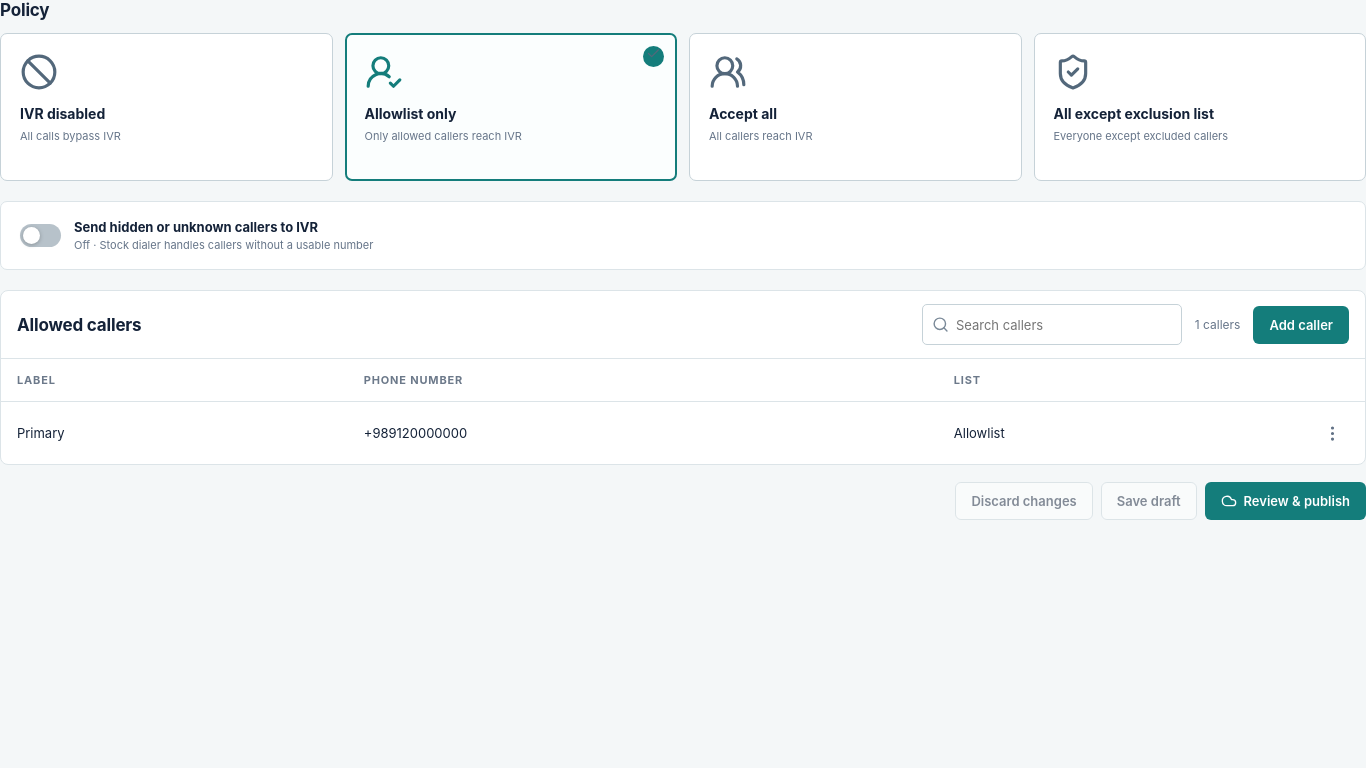
Caller Policy publishing › saves, reviews, confirms, and publishes a broader caller policy
Expected: the heading "Policy" is shown, x1=0 y1=0 x2=49 y2=20
Expected: the button "Save draft" is disabled, x1=1101 y1=482 x2=1196 y2=520
Click the button "Accept all All callers reach IVR": [728, 72] box x1=689 y1=33 x2=1022 y2=181
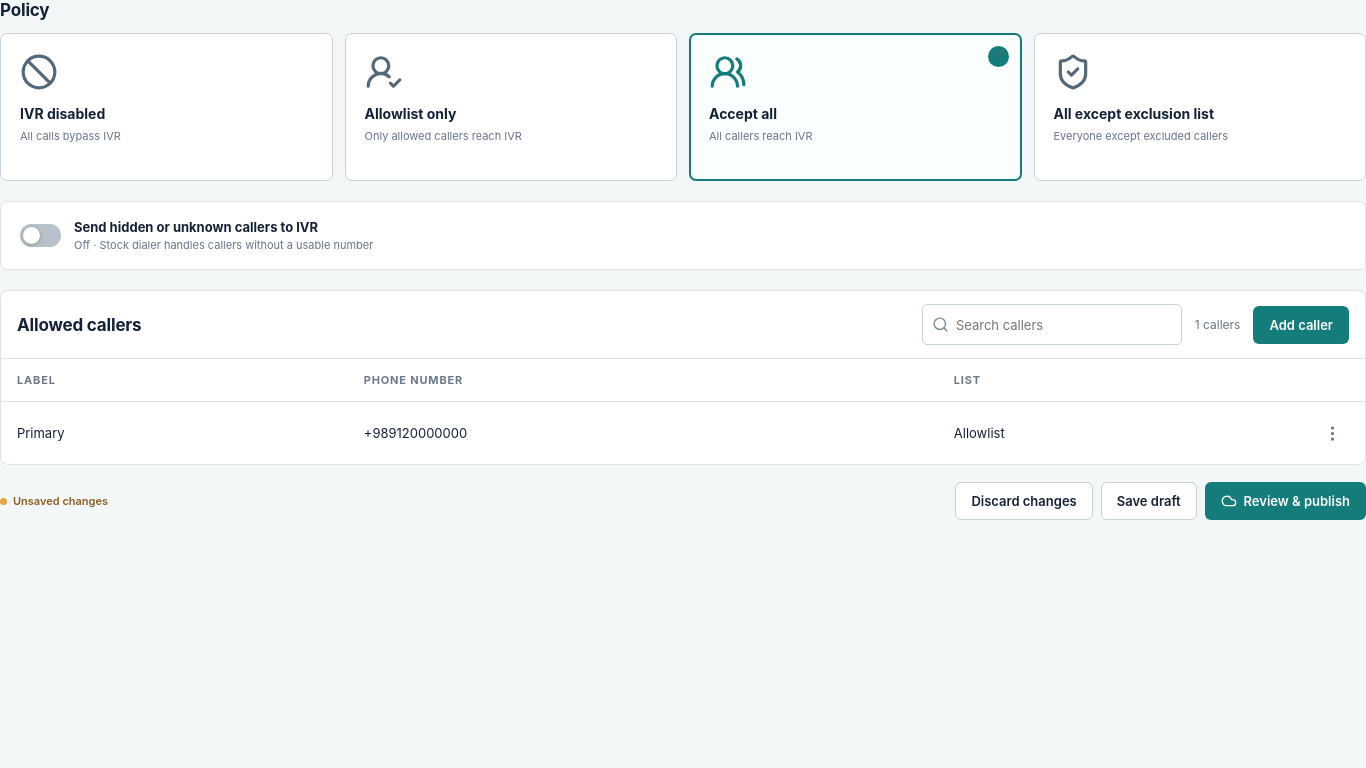
Now the text "Unsaved changes" is shown, box x1=0 y1=494 x2=108 y2=508
Click the button "Review & publish": [1285, 501] box x1=1204 y1=482 x2=1365 y2=520
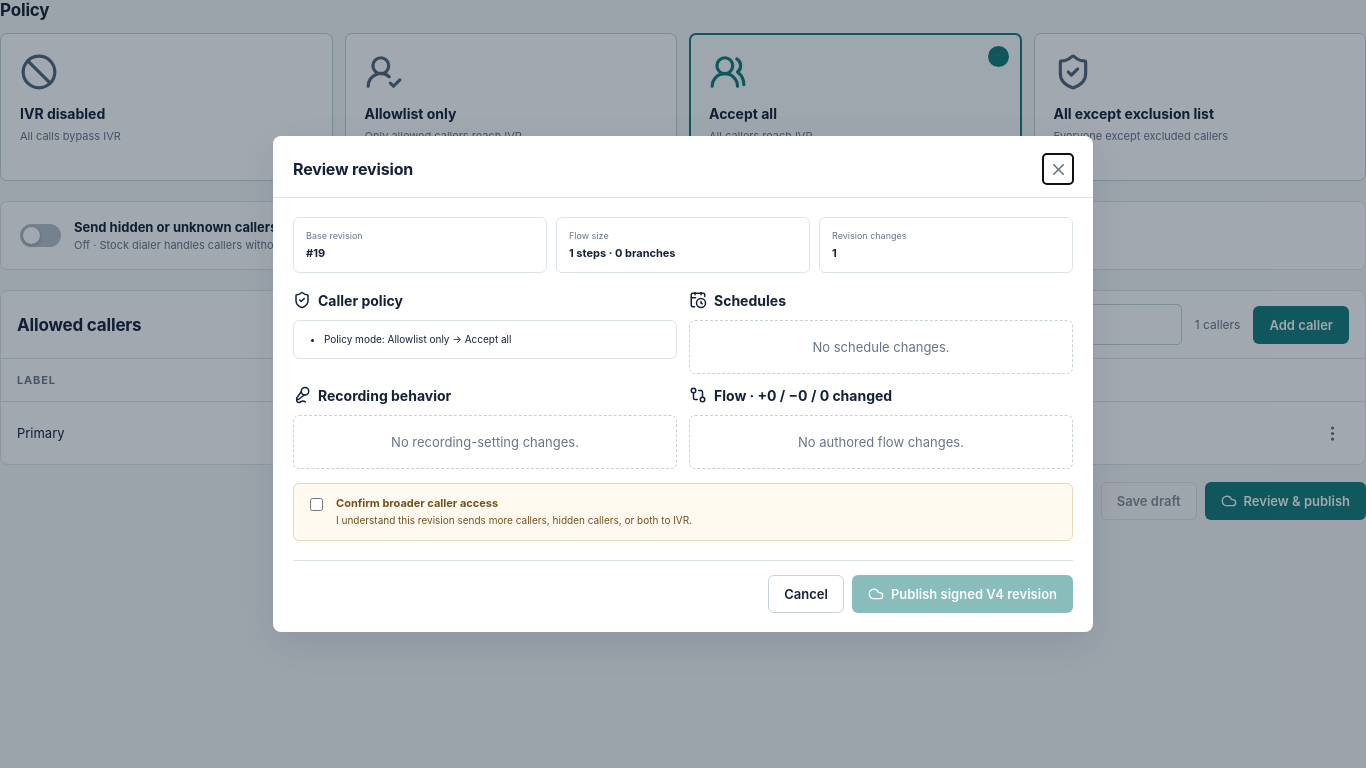
Now the list item "Policy mode: Allowlist only → Accept all" is shown, box x1=324 y1=333 x2=512 y2=345
Now the button "Publish signed V4 revision" is disabled, box x1=852 y1=575 x2=1073 y2=613
Click the checkbox labelled "Confirm broader caller access": [316, 505] box x1=310 y1=498 x2=323 y2=511
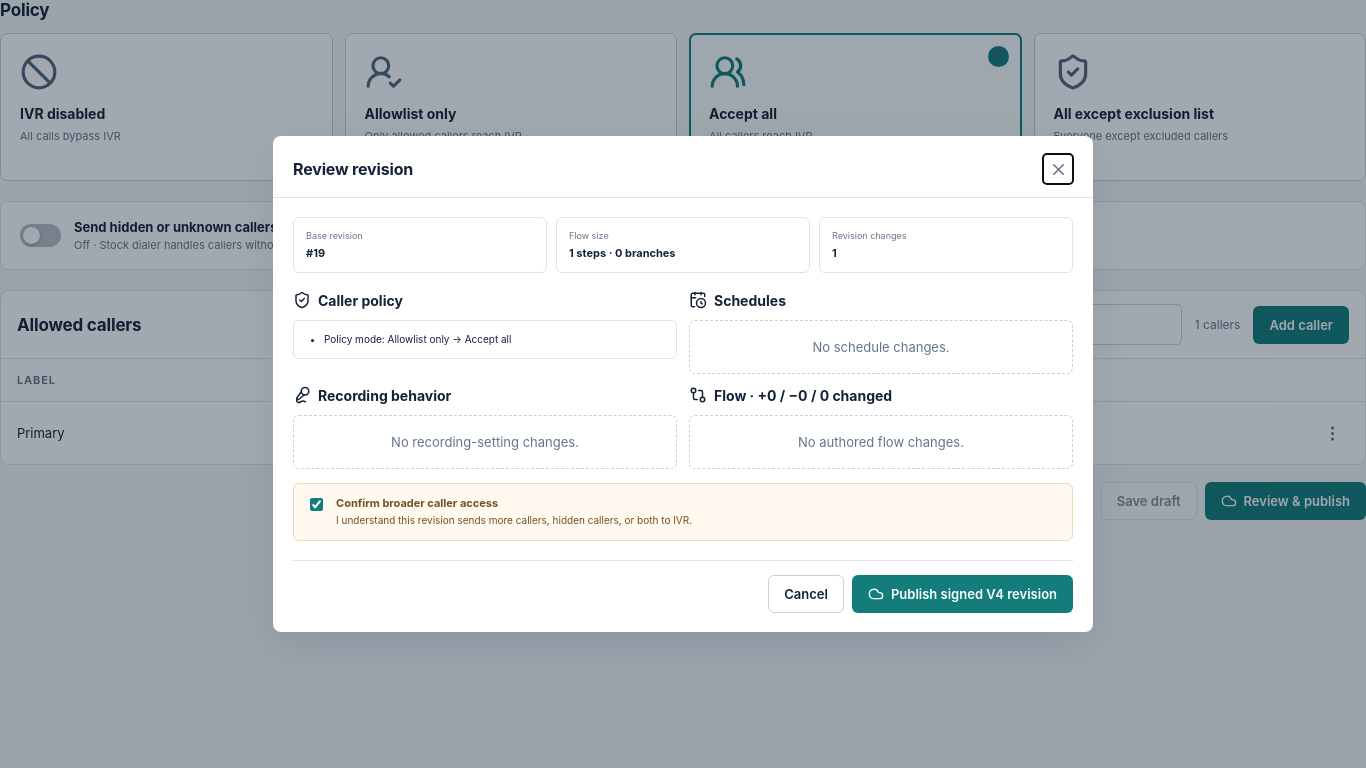
Now the button "Publish signed V4 revision" is enabled
Click the button "Publish signed V4 revision": [962, 594] box x1=852 y1=575 x2=1073 y2=613
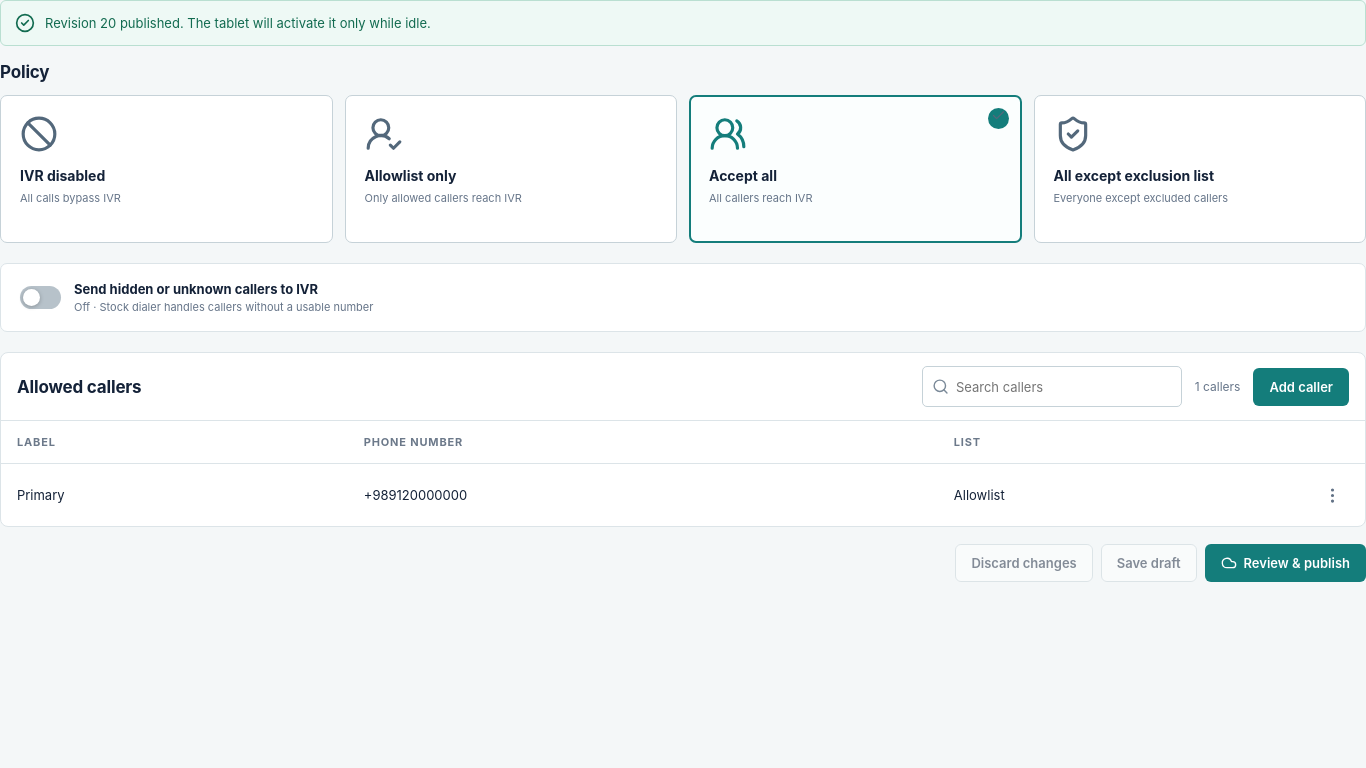
Now the text "Revision 20 published" is shown, box x1=45 y1=15 x2=431 y2=31
